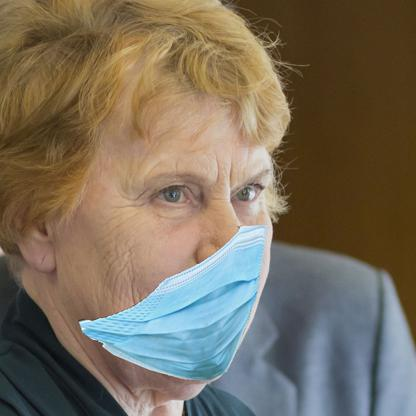mask: (77, 223, 266, 383)
